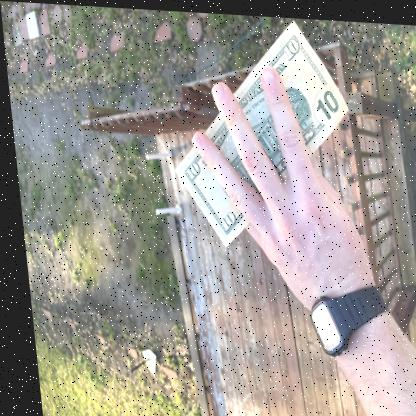ten-back: (176, 20, 348, 250)
